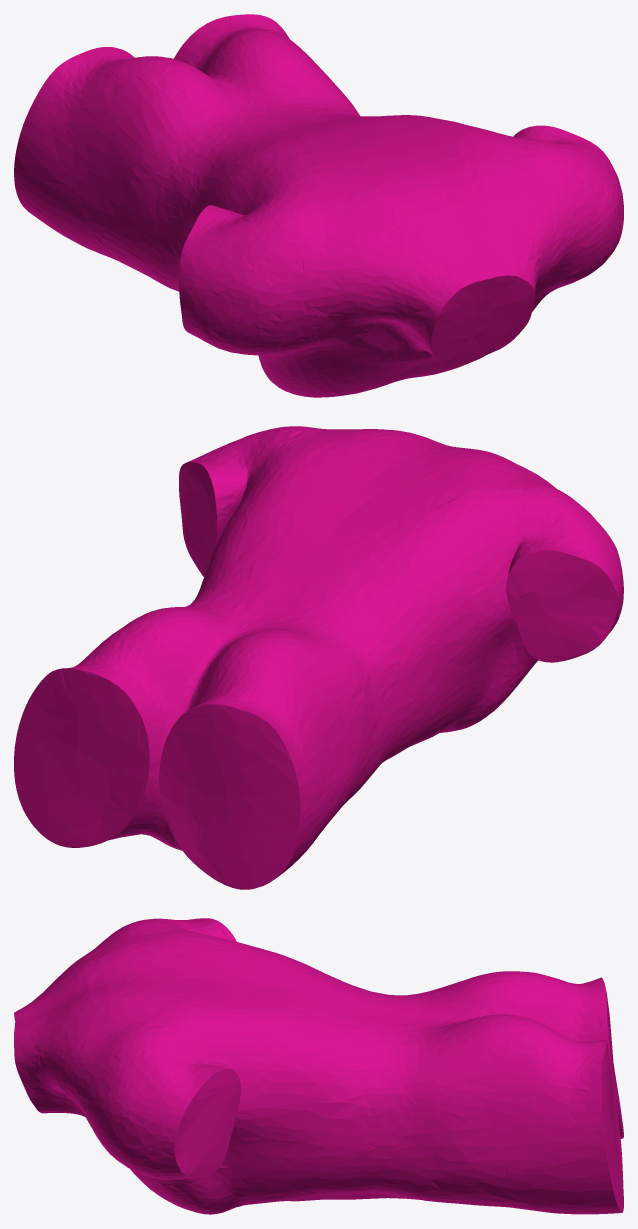
Rendered from torso.obj.
3 views of the same model, one above another, from view 1: azimuth 30°, elevation 25°; view 2: azimuth 150°, elevation 25°; view 3: azimuth 270°, elevation 25° (orthographic). The views are drawn at different scales.
Parts seen in each view (by area): view 1: obj_0; view 2: obj_0; view 3: obj_0.
Boxes of the visible parts, left/top/right/bottom form: obj_0: left=14, top=14, right=623, bottom=397; obj_0: left=14, top=426, right=623, bottom=889; obj_0: left=14, top=918, right=623, bottom=1214.
Bounding box in the file's own units: 41.17 × 21.8 × 55.14.
